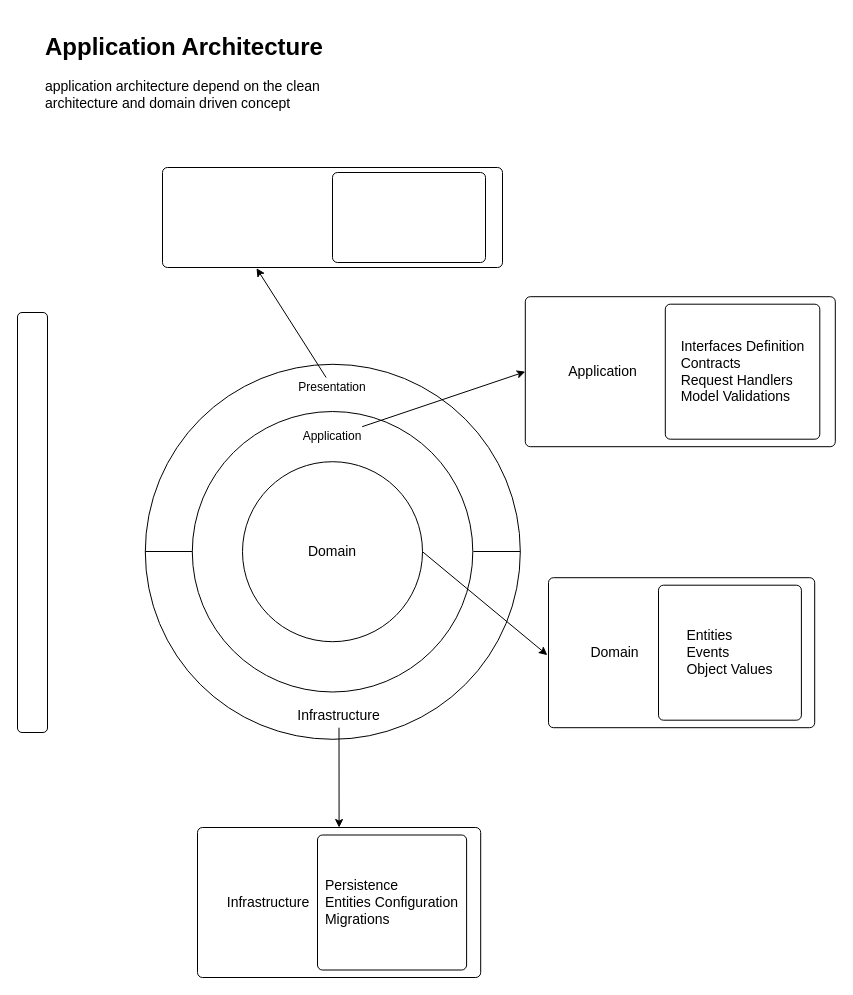
Image size: 853x995. Some labels were removed from this diagram. The centre of each missing label's shape, as x and y in pixels:
"API Application" belongs at point 247,217.
"Swagger Middlewares" belongs at point 409,217.
"Unit Test" belongs at point 32,522.
